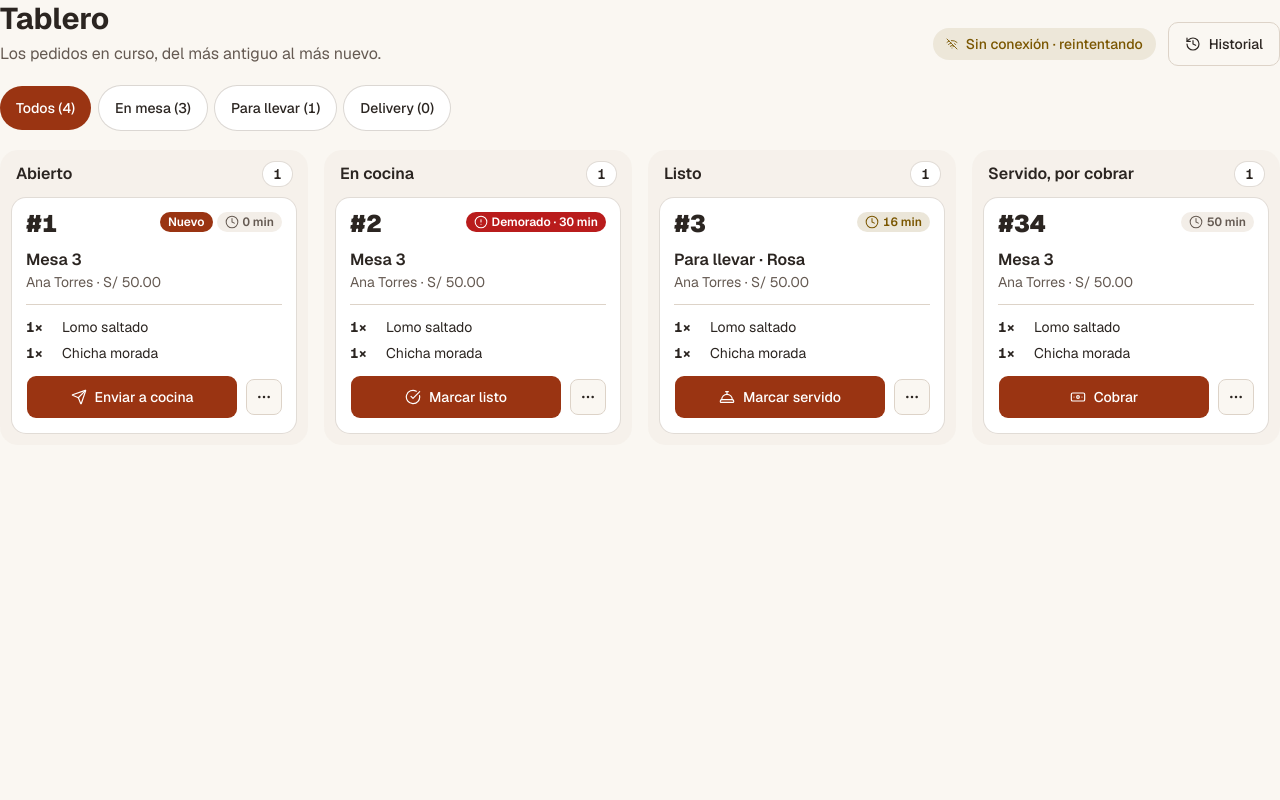
Test case: BoardView › cobrar y cancelar abren sus ventanas desde el tablero
Click the button "Cobrar": (1104, 396) [998, 374, 1210, 418]
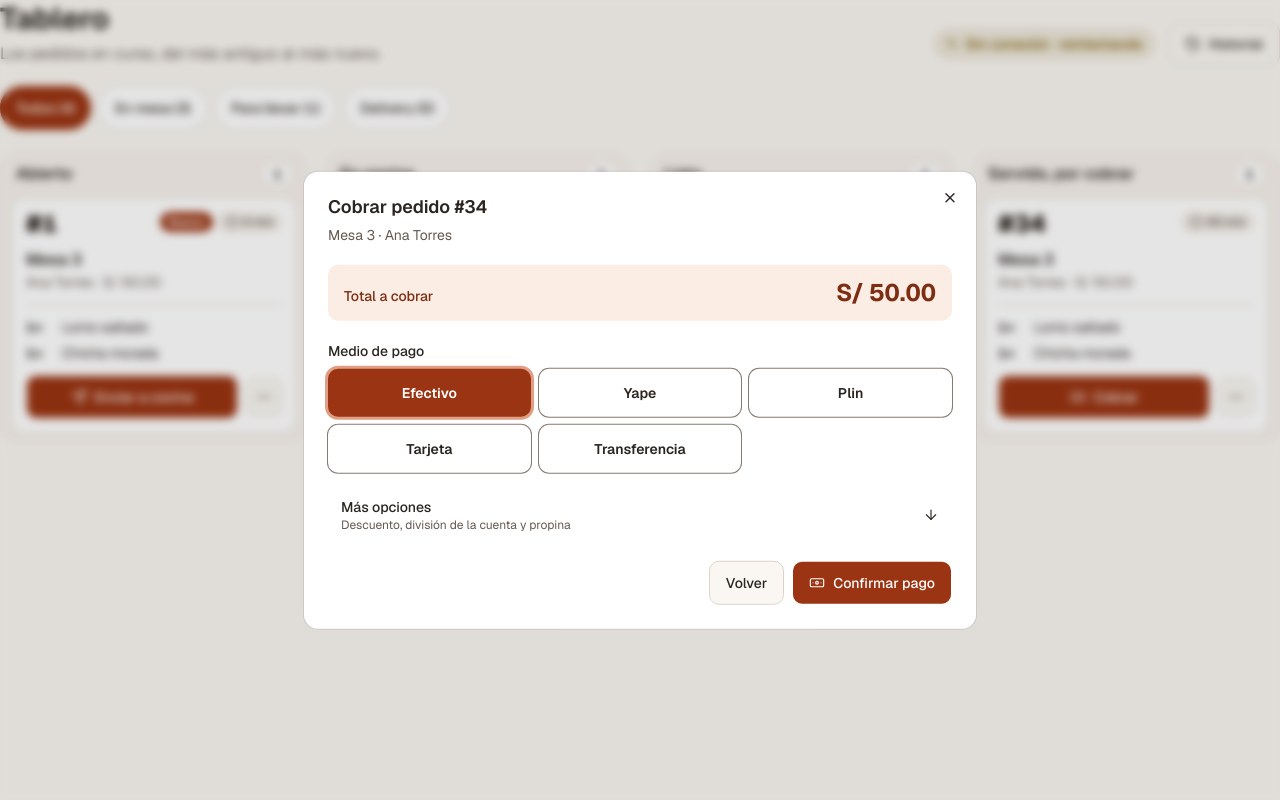
Check: the dialog "Cobrar pedido #34" is shown, box [304, 172, 976, 628]
Click the button "Volver": (746, 582) [709, 560, 784, 604]
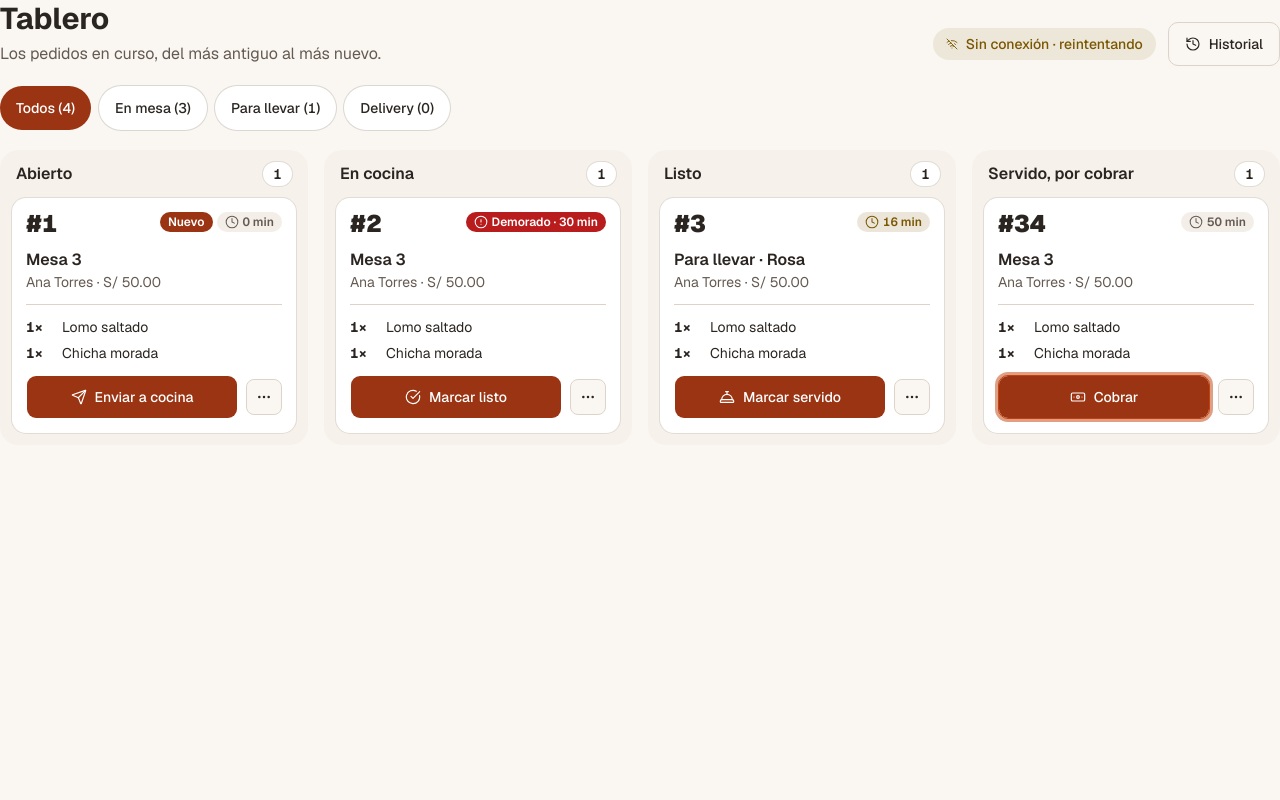
Click the button named "Más acciones del pedido #1": (264, 396) [246, 378, 282, 414]
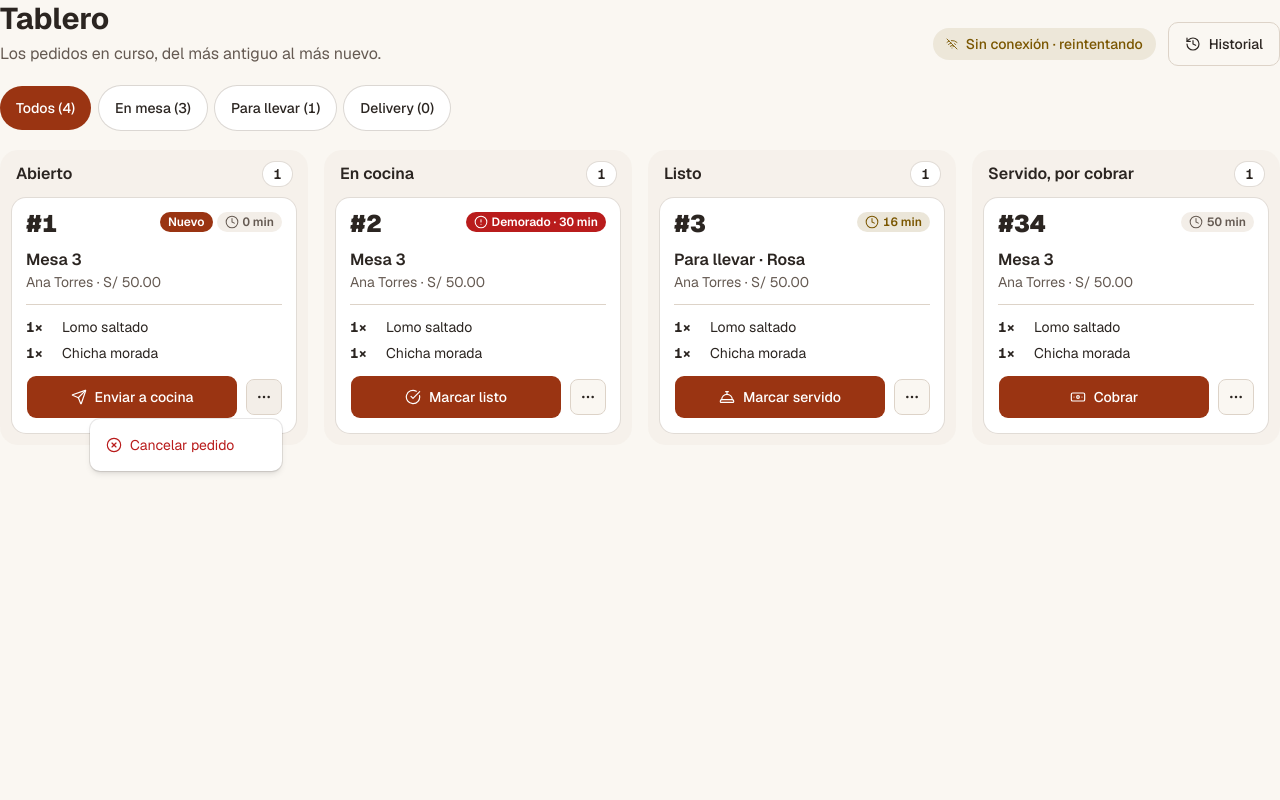
Click the menu item "Cancelar pedido": (170, 445) [106, 436, 234, 454]
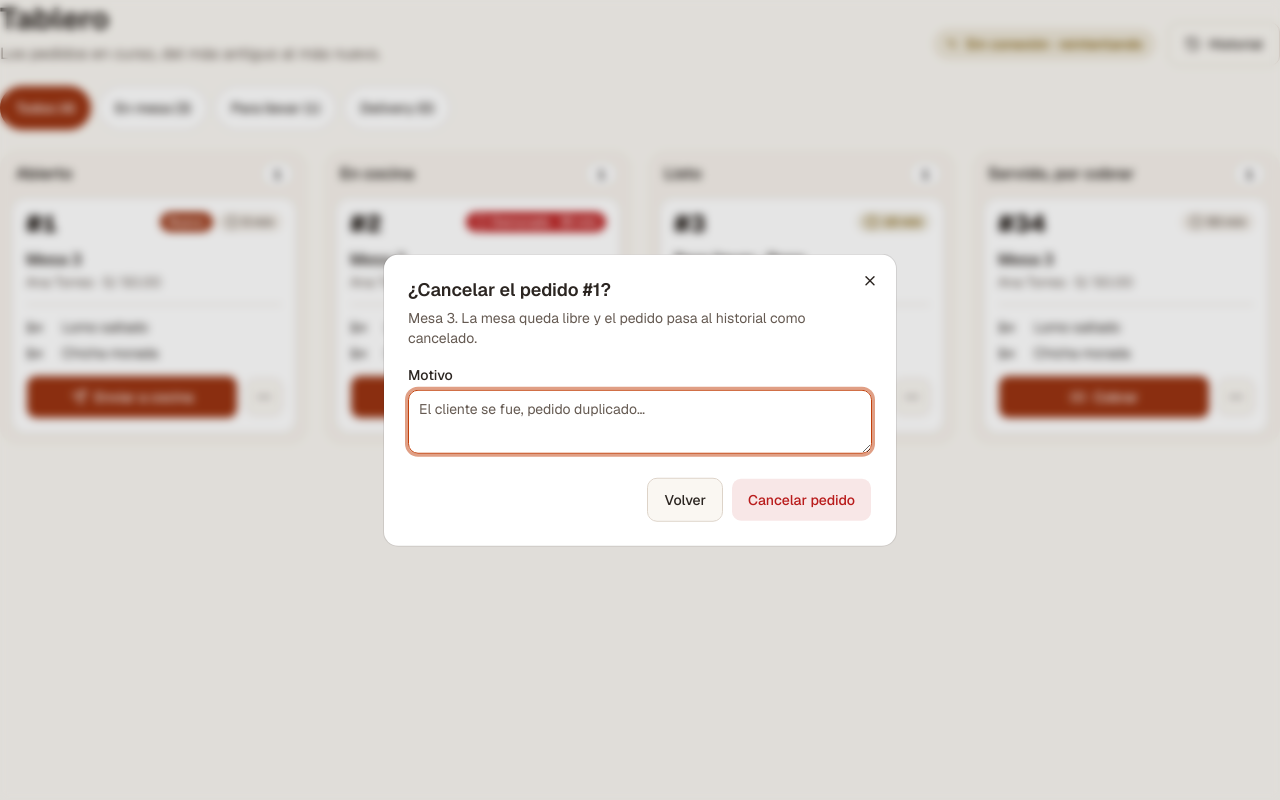
Check: the dialog "¿Cancelar el pedido #1?" is shown, box [384, 255, 896, 545]
